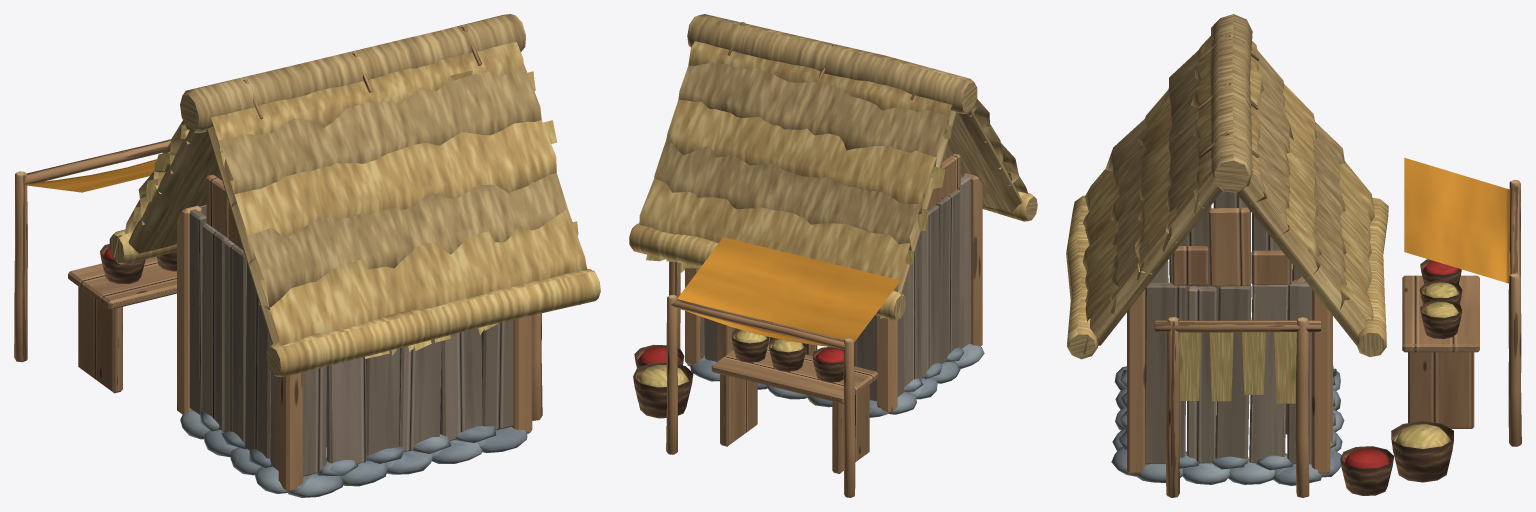
The model's file is bw_foraging_camp.fbx.
3 views of the same model, side by side, from view 1: azimuth 30°, elevation 25°; view 2: azimuth 150°, elevation 25°; view 3: azimuth 270°, elevation 25° (orthographic). The views are drawn at different scales.
Visible parts, largest first — view 1: bw_foraging_camp; view 2: bw_foraging_camp; view 3: bw_foraging_camp.
Boxes of the visible parts, bbox=[...] form: bw_foraging_camp: bbox=[14, 14, 600, 497]; bw_foraging_camp: bbox=[629, 14, 1037, 497]; bw_foraging_camp: bbox=[1066, 14, 1521, 497].
Bounding box in the file's own units: 1.98 × 2.06 × 2.47.
